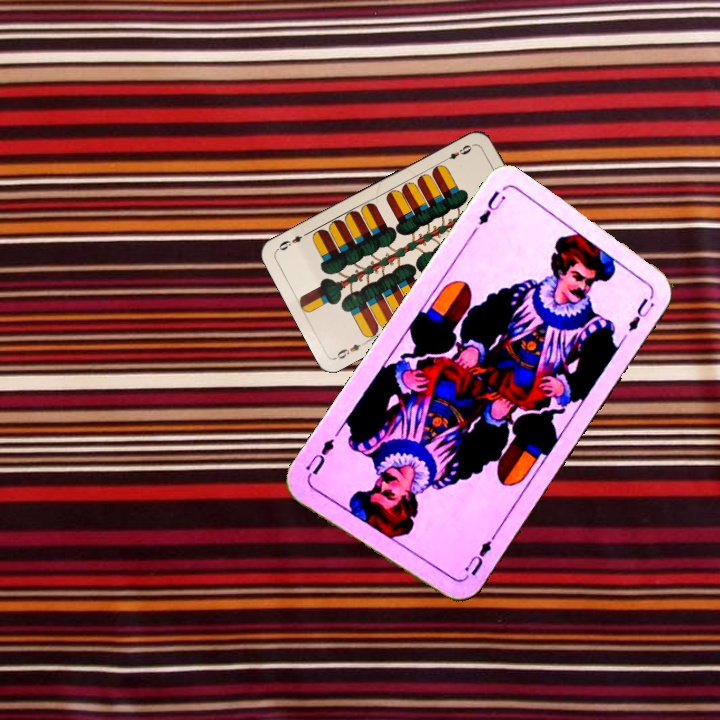E9: (440, 140, 477, 165), (332, 337, 369, 362)
EU: (455, 530, 497, 584), (474, 186, 509, 228)
